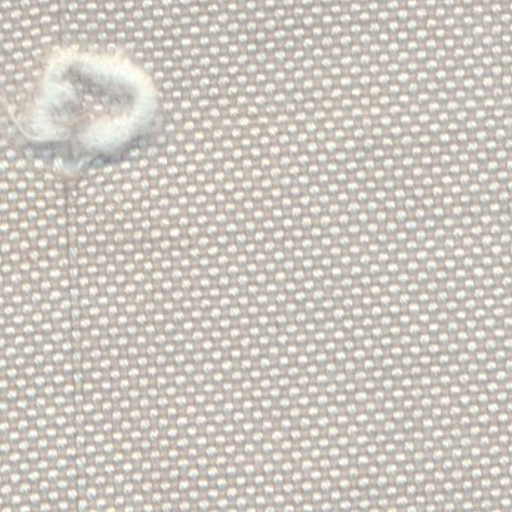DuanSha: (12, 34, 168, 188)
